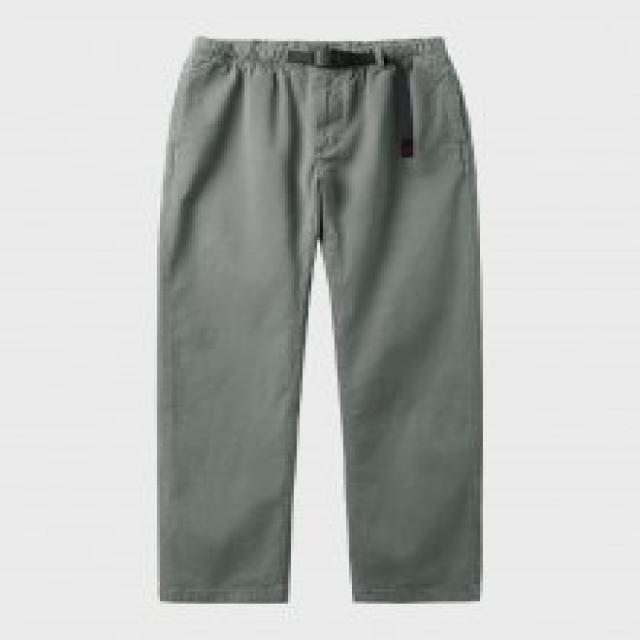long-pants: (151, 33, 486, 609)
